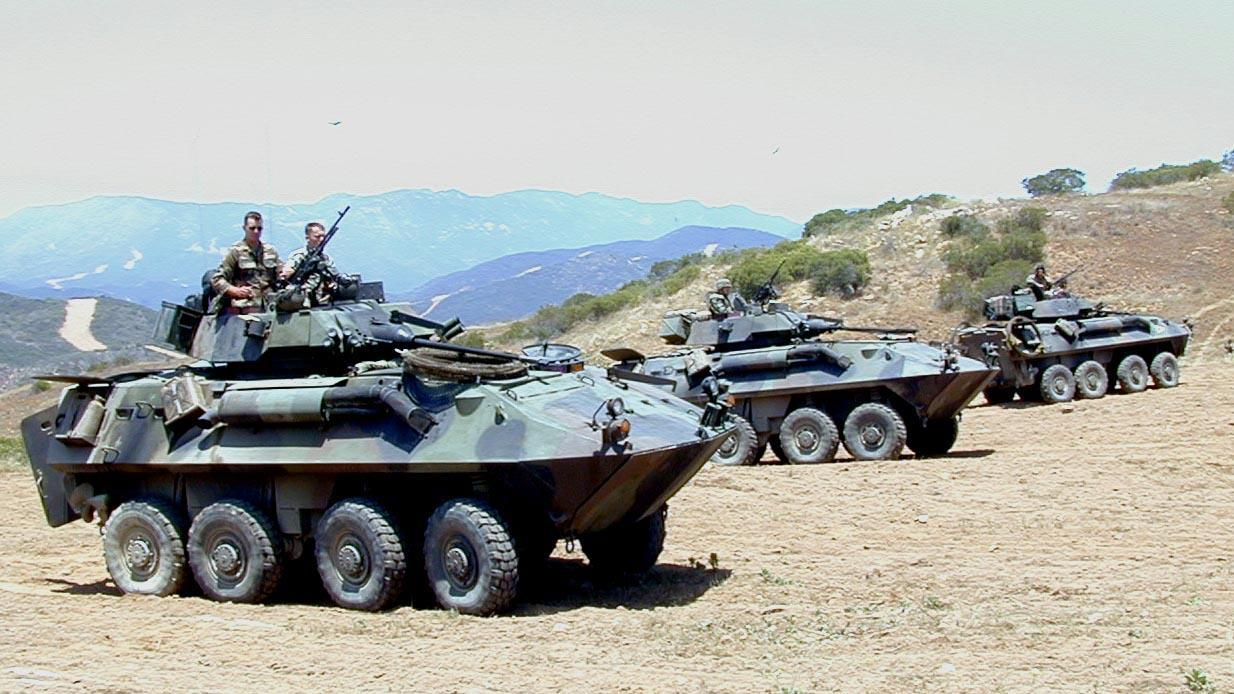tank: (25, 290, 740, 598), (598, 294, 1002, 467), (955, 284, 1195, 403)
